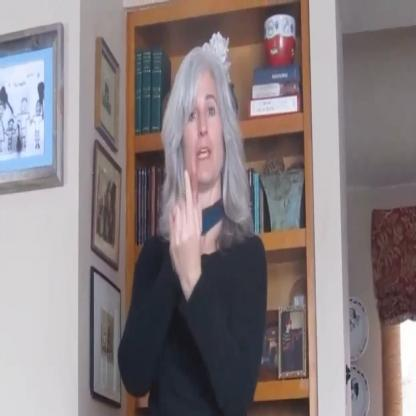NiceToMeetYou: (158, 166, 206, 298)
